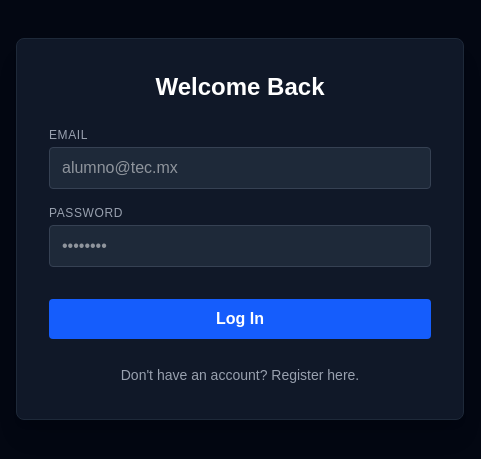
Test: AuthScreen › shows the error message when auth fails
Step 1. Type "a@tec.mx" into the field with placeholder "alumno@tec.mx" → (240, 168), box [49,147,431,189]
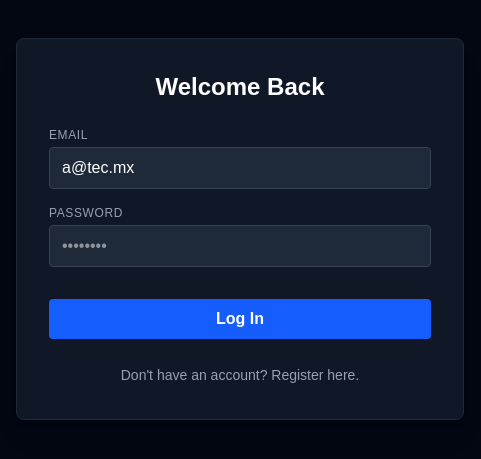
Step 2. Type "wrong" into the password field with placeholder "••••••••" → (240, 246), box [49,225,431,267]
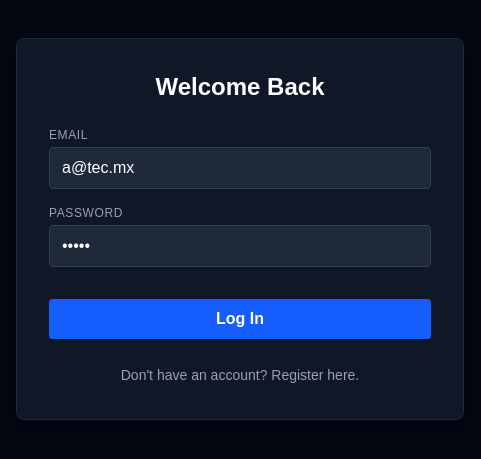
Step 3. Click the button "Log In" → (240, 319), box [49,299,431,339]
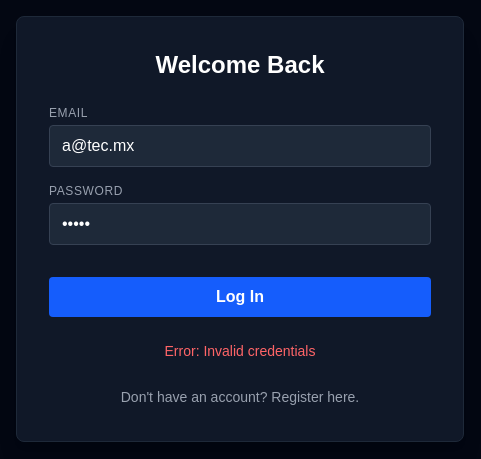
Now the text "Error: Invalid credentials" is shown, box [164,343,316,359]
